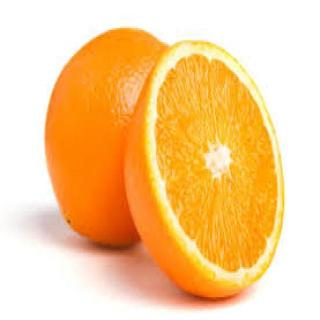orange: (126, 38, 292, 318), (44, 5, 173, 264)
